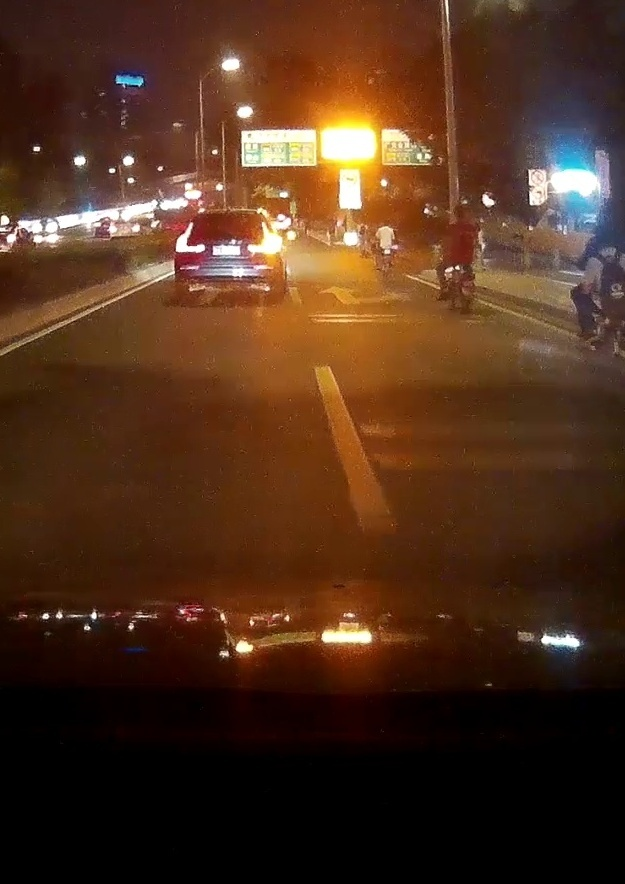L_light: (175, 222, 204, 252)
R_light: (247, 221, 279, 255)
T_light: (217, 213, 235, 218)
night-right: (174, 208, 282, 294)
